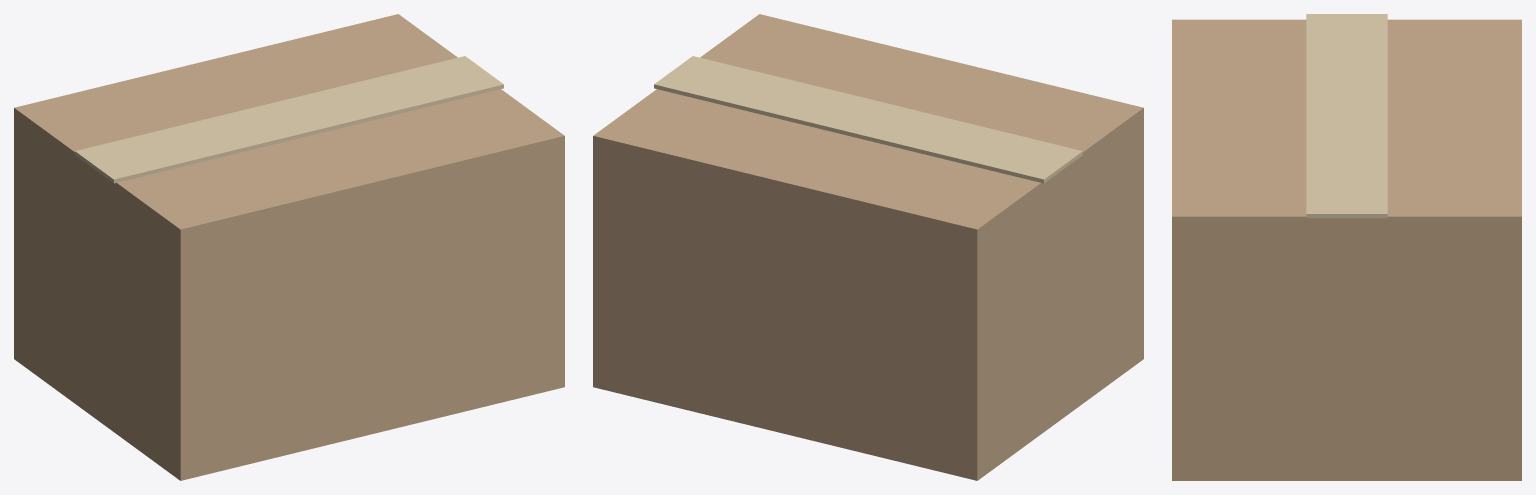
The model's file is CartonItem.fbx.
The picture shows the model from 3 angles, left to right: view 1: azimuth 30°, elevation 25°; view 2: azimuth 150°, elevation 25°; view 3: azimuth 270°, elevation 25°; orthographic projection. The views are drawn at different scales.
Parts seen in each view (by area): view 1: CartonItem; view 2: CartonItem; view 3: CartonItem.
Boxes of the visible parts, box(x1,y1,x2,y2) form: CartonItem: box(14, 14, 564, 480); CartonItem: box(593, 14, 1143, 480); CartonItem: box(1172, 14, 1521, 480).
Bounding box in the file's own units: 0.406 × 0.254 × 0.3.
